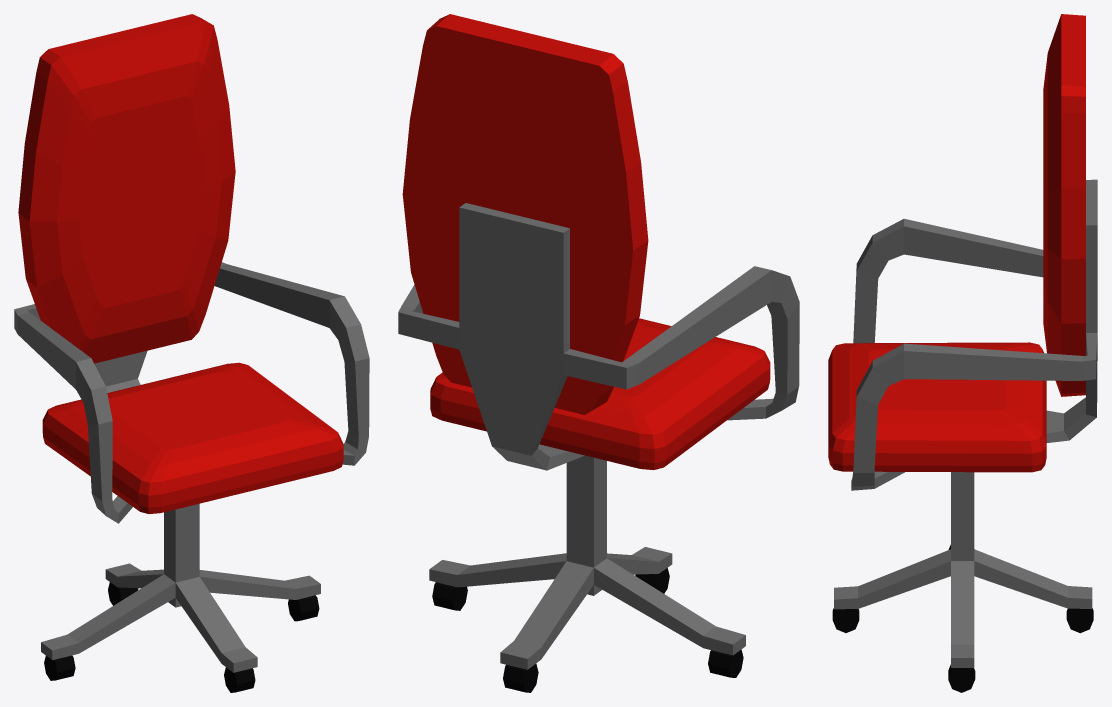
File: P_Chair_1.fbx
3 renders of one model, left to right at view 1: azimuth 30°, elevation 25°; view 2: azimuth 150°, elevation 25°; view 3: azimuth 270°, elevation 25°, orthographic. The views are drawn at different scales.
Parts seen in each view (by area): view 1: P_Chair_1; view 2: P_Chair_1; view 3: P_Chair_1.
Part boxes in pixels (bbox=[...]): P_Chair_1: bbox=[14, 14, 369, 692]; P_Chair_1: bbox=[398, 14, 799, 692]; P_Chair_1: bbox=[828, 14, 1097, 692].
Bounding box in the file's own units: 382 × 326 × 773.
